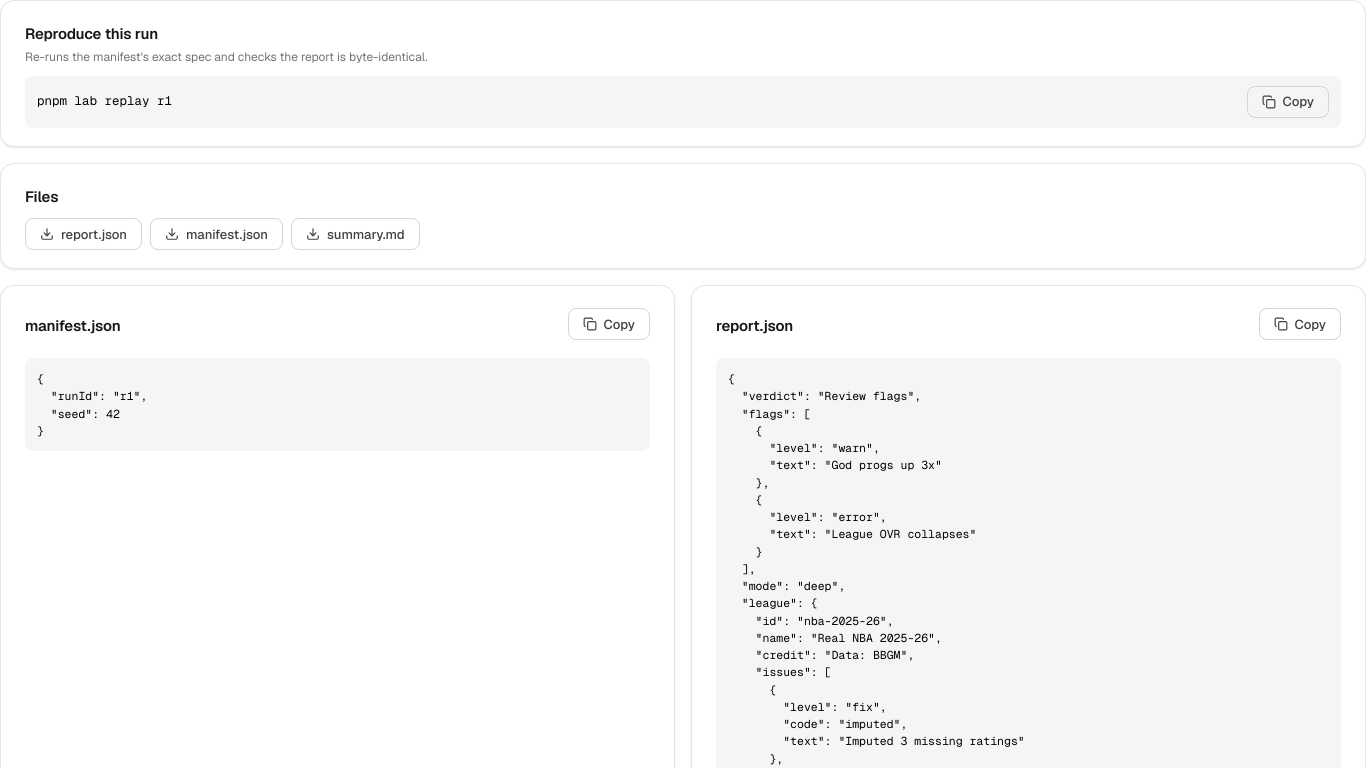
Test: LabAudit › copies report.json text
This screenshot has width=1366, height=768.
Click the 3rd button "Copy" at (1300,324), box [1259,308,1341,340]
(page scrolled)
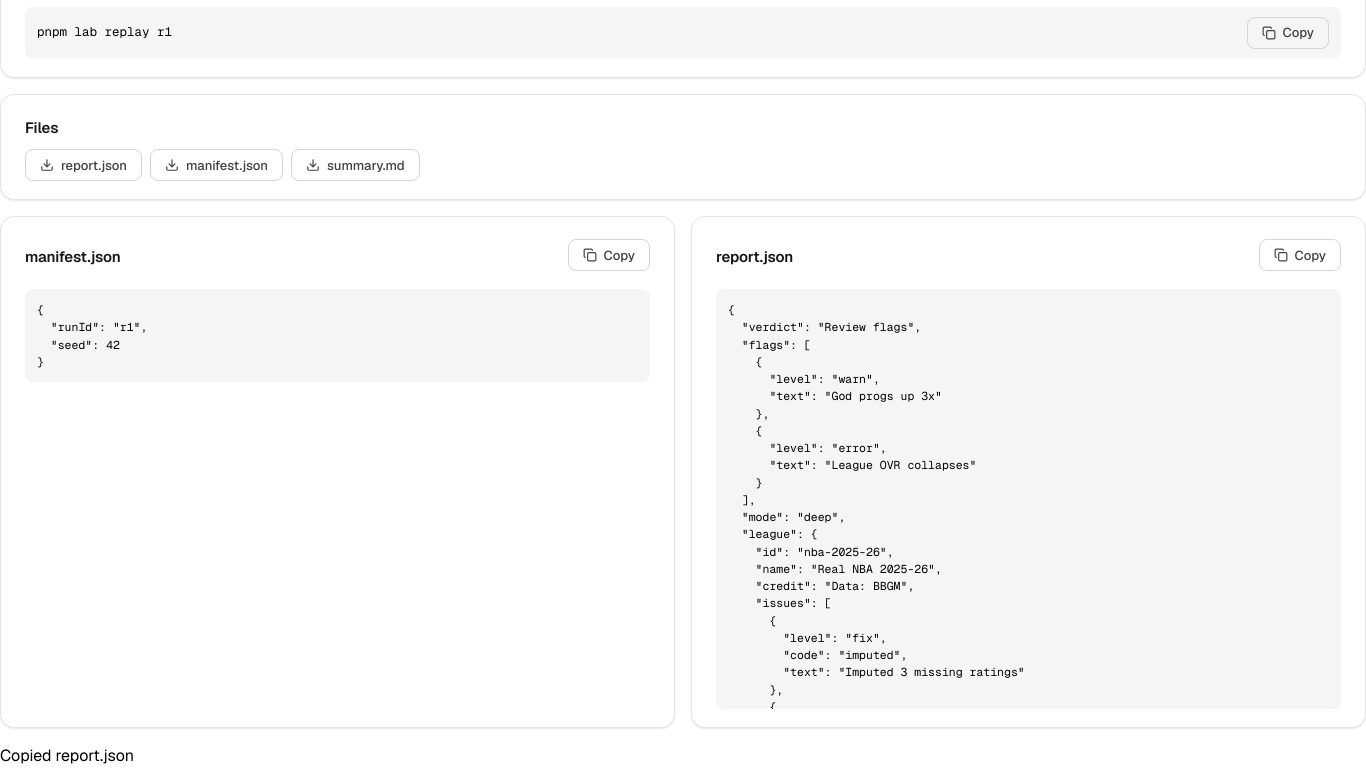
Expected: the message "Copied report.json" is shown, [0,745,134,766]
